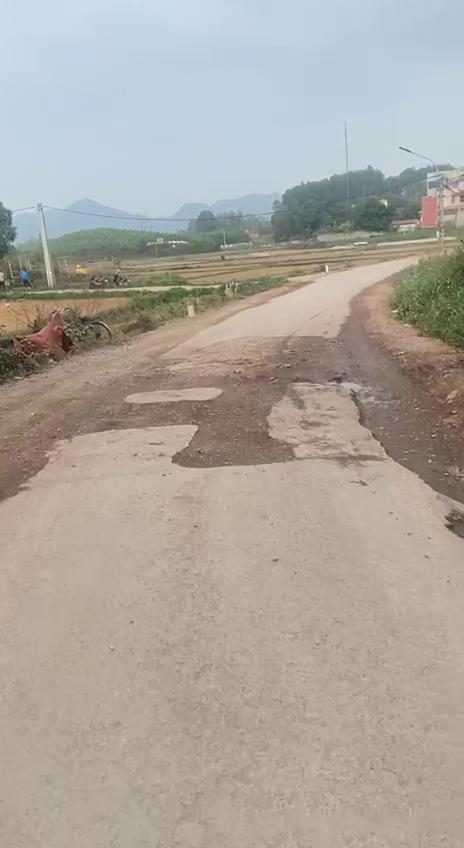pothole: (178, 388, 296, 467)
